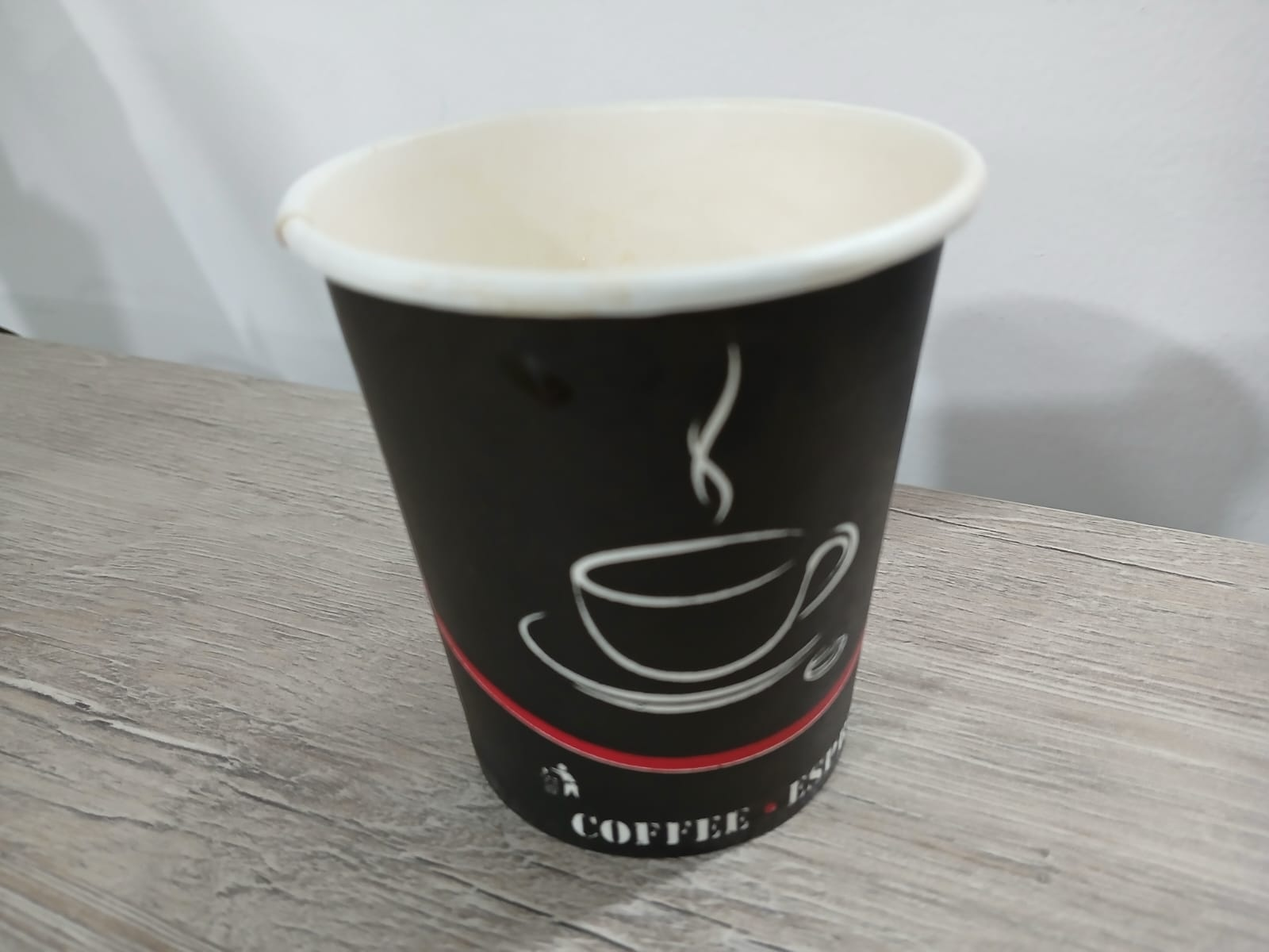Carton: (280, 101, 988, 856)
